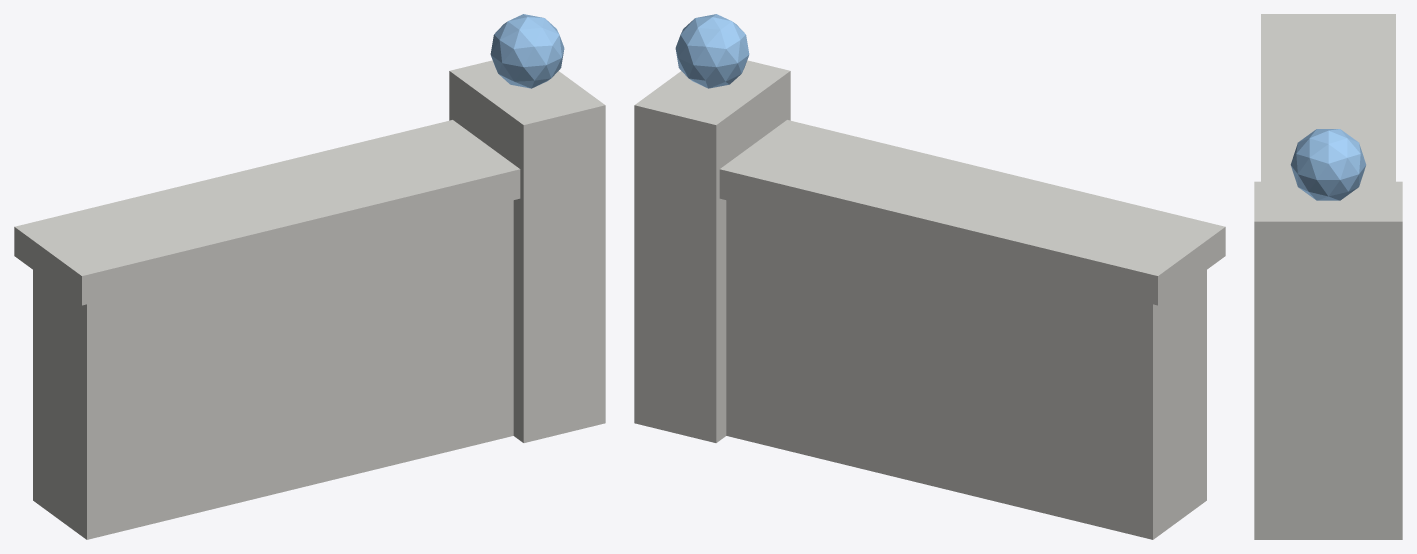
Rendered from wall_segment.fbx.
The picture shows the model from 3 angles, left to right: view 1: azimuth 30°, elevation 25°; view 2: azimuth 150°, elevation 25°; view 3: azimuth 270°, elevation 25°; orthographic projection.
Visible parts, largest first — view 1: Wall_Body, Wall_Cap, Wall_Pillar, Wall_Pillar_Ball; view 2: Wall_Body, Wall_Cap, Wall_Pillar, Wall_Pillar_Ball; view 3: Wall_Pillar, Wall_Cap, Wall_Pillar_Ball.
Boxes of the visible parts, x1=… form: Wall_Body: x1=33, y1=200, x2=513, y2=539; Wall_Cap: x1=14, y1=120, x2=520, y2=305; Wall_Pillar: x1=449, y1=60, x2=605, y2=442; Wall_Pillar_Ball: x1=490, y1=14, x2=564, y2=88; Wall_Body: x1=726, y1=200, x2=1206, y2=539; Wall_Cap: x1=719, y1=120, x2=1225, y2=305; Wall_Pillar: x1=634, y1=60, x2=790, y2=442; Wall_Pillar_Ball: x1=675, y1=14, x2=749, y2=88; Wall_Pillar: x1=1254, y1=181, x2=1402, y2=539; Wall_Cap: x1=1261, y1=14, x2=1395, y2=181; Wall_Pillar_Ball: x1=1290, y1=129, x2=1366, y2=200.
Bounding box in the file's own units: 4.45 × 3.18 × 1.1.
